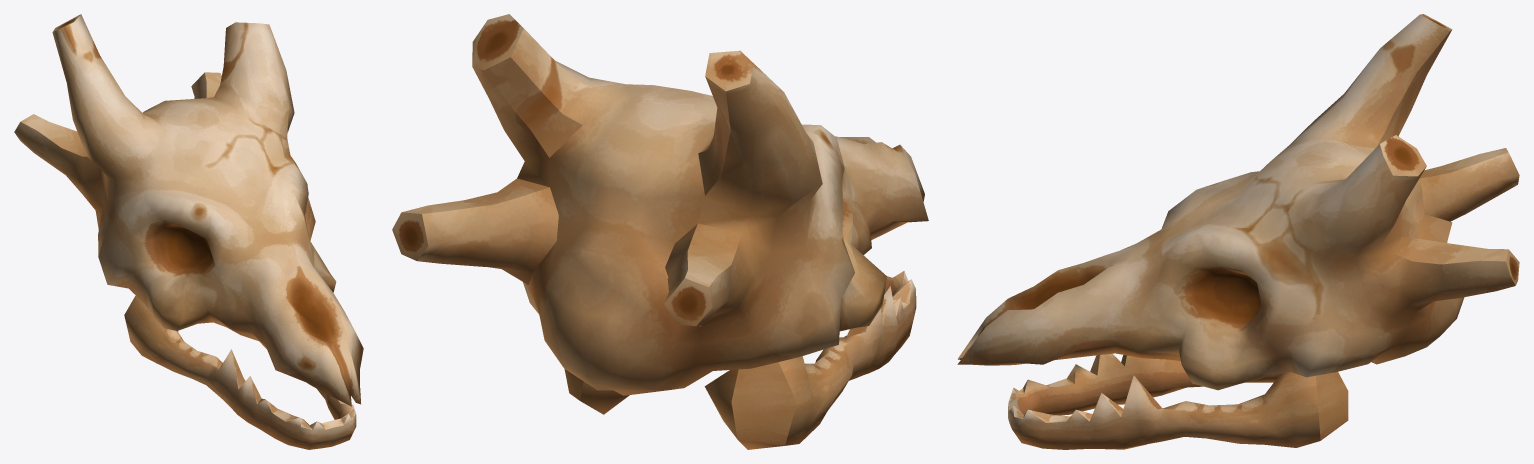
The model's file is Stage_ShaMo_SouTou.FBX.
3 views of the same model, side by side, from view 1: azimuth 30°, elevation 25°; view 2: azimuth 150°, elevation 25°; view 3: azimuth 270°, elevation 25° (orthographic). The views are drawn at different scales.
Visible parts, largest first — view 1: Stage_ShaMo_SouTou; view 2: Stage_ShaMo_SouTou; view 3: Stage_ShaMo_SouTou.
Part boxes in pixels (<box>): Stage_ShaMo_SouTou: <box>14,14,363,449</box>; Stage_ShaMo_SouTou: <box>392,14,928,449</box>; Stage_ShaMo_SouTou: <box>957,14,1519,449</box>.
Size of the model in its own units: 536 by 781 by 1078.
